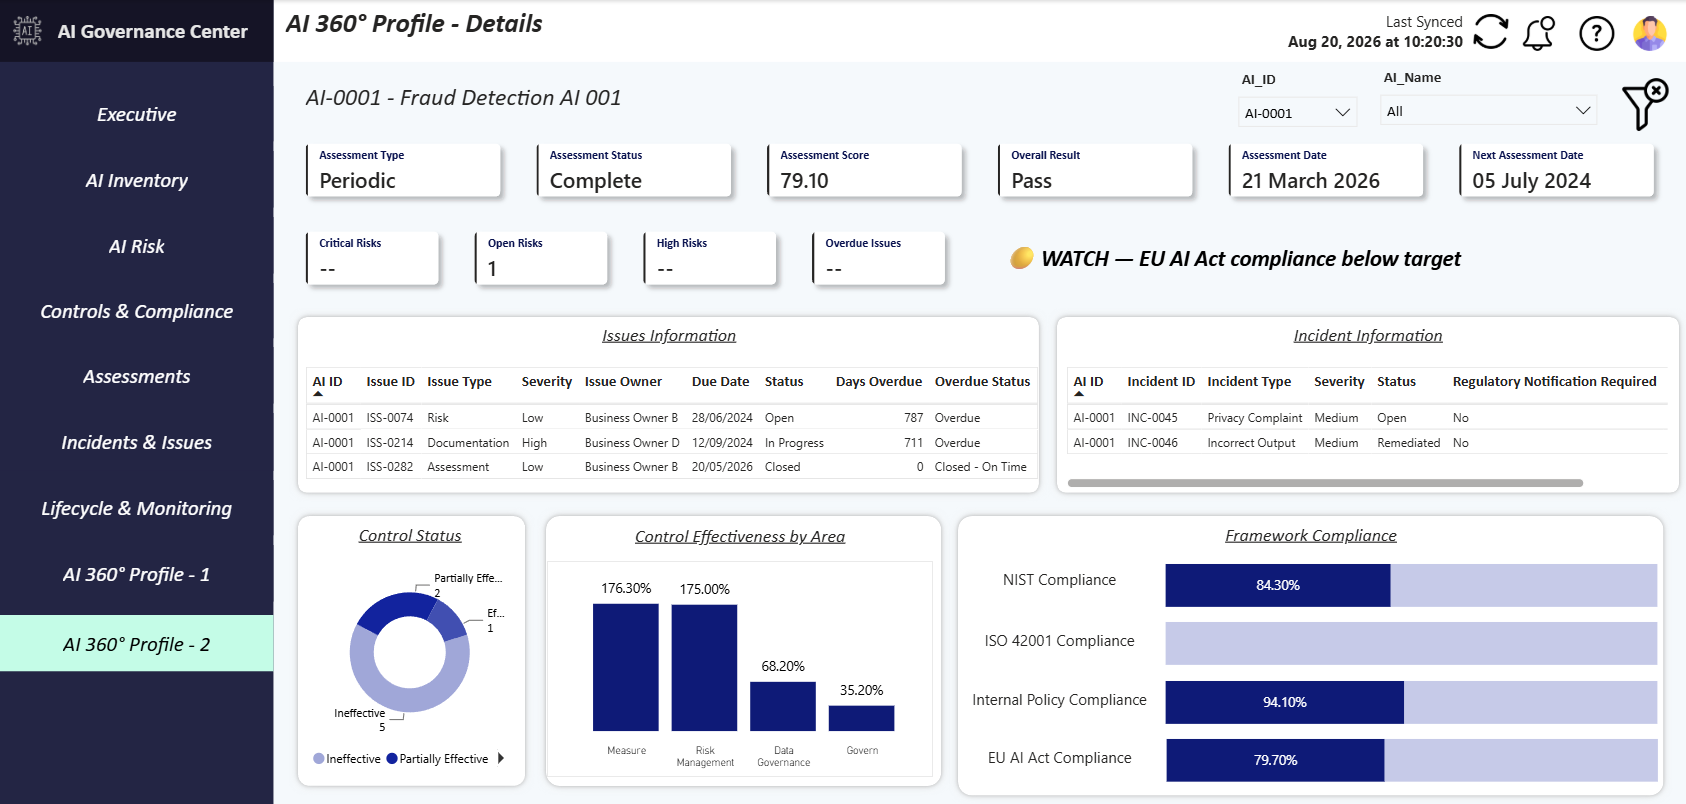

The page's visual inventory and layout, read from the dashboard file:
{"tool":"powerbi","page":{"name":"AI 360° Profile - 2","canvas":[1500,715],"ordinal":8},"visuals":[{"type":"shape","box":[0,0,1500,720.5],"z":0},{"type":"shape","box":[0,0,243.4,715.7],"z":1000},{"type":"shape","box":[0,0,243.4,55.2],"z":2000},{"type":"shape","box":[243.4,0,1256.6,55.2],"z":3000},{"type":"textbox","box":[46,10.2,186.1,33.7],"z":4000},{"type":"image","box":[1446.8,14.3,39.5,31.1],"z":5000},{"type":"image","box":[1347.6,14.3,38.6,31.1],"z":6000},{"type":"cardVisual","fields":{"Data":["Min(Fact_Assessment.Assessment_Type)","Min(Fact_Assessment.Assessment_Status)","Sum(Fact_Assessment.Assessment_Score)","Min(Fact_Assessment.Overall_Result)","Min(Fact_Assessment.Assessment_Date)","Min(AI_Inventory.Next_Assessment_Date)"]},"box":[242.5,98.9,1257.7,105.3],"z":7000},{"type":"shape","box":[256.8,273.9,674.4,172.2],"z":8000},{"type":"textbox","box":[498.4,282.5,192.4,38],"z":9000},{"type":"shape","box":[256.8,450.9,217.8,255.9],"z":10000},{"type":"shape","box":[843.7,450.9,643,264.4],"z":11000},{"type":"textbox","box":[1052,460.4,226,38],"z":12000},{"type":"image","box":[9.2,14.3,30.7,25.6],"z":13000},{"type":"image","box":[1399.8,14.3,39,31],"z":14000},{"type":"textbox","box":[1100.7,5.1,204.2,44.9],"z":15000},{"type":"image","box":[1305,12.3,39,31],"z":16000},{"type":"shape","box":[0,76.2,242.9,49.5],"z":17000},{"type":"shape","box":[0,484,243,50],"z":18000},{"type":"shape","box":[0,426.5,243,49],"z":19000},{"type":"shape","box":[477.5,450.9,367.2,255.9],"z":20000},{"type":"shape","box":[0,192.6,243,50],"z":21000},{"type":"shape","box":[0,367,243,51.1],"z":22000},{"type":"shape","box":[0,308.5,243,50],"z":23000},{"type":"shape","box":[0,251.1,243,49],"z":24000},{"type":"shape","box":[0,134.1,243,50],"z":25000},{"type":"tableEx","fields":{"Values":["AI_Inventory.AI_ID","Fact_Issue.Issue_ID","Fact_Issue.Issue_Type","Fact_Issue.Severity","Fact_Issue.Issue_Owner","Fact_Issue.Due_Date","Fact_Issue.Status","Fact_Issue.Days Overdue","Fact_Issue.Overdue Status"]},"box":[265.4,320.5,665.8,117.9],"z":26000},{"type":"shape","box":[0,546.5,243,50],"z":27000},{"type":"barChart","fields":{"Y":["_Measures.NIST Compliance","AI_Inventory.dummy"]},"box":[1031.1,483.2,447.1,65.6],"z":28000},{"type":"barChart","fields":{"Y":["_Measures.ISO 42001 Compliance","AI_Inventory.dummy"]},"box":[1031.1,535.1,447.1,65.6],"z":29000},{"type":"barChart","fields":{"Y":["_Measures.Internal Policy Compliance","AI_Inventory.dummy"]},"box":[1031.1,587,447.1,65.6],"z":30000},{"type":"barChart","fields":{"Y":["_Measures.EU AI Act Compliance","AI_Inventory.dummy"]},"box":[1031.4,639,446.6,65.4],"z":31000},{"type":"textbox","box":[852.3,501.3,178.8,32.3],"z":32000},{"type":"textbox","box":[852.3,555.5,178.8,32.3],"z":33000},{"type":"textbox","box":[852.3,607.8,178.8,32.3],"z":34000},{"type":"textbox","box":[852.3,659.2,179.1,32.7],"z":35000},{"type":"donutChart","fields":{"Category":["Fact_Control_Test.Control_Status"],"Y":["_Measures.Total Control Tests"]},"box":[273,493.7,182.6,197.8],"z":36000},{"type":"textbox","box":[251.1,460.4,226,38],"z":37000},{"type":"columnChart","fields":{"Category":["Dim_Control.Control_Area"],"Y":["Sum(Fact_Control_Test.Effectiveness)"]},"box":[486,498.4,343.4,192.1],"z":38000},{"type":"textbox","box":[545,461.3,226,38],"z":39000},{"type":"shape","box":[931.2,273.9,568.8,172.2],"z":40000},{"type":"textbox","box":[1119.5,282.5,192.4,38],"z":41000},{"type":"tableEx","fields":{"Values":["AI_Inventory.AI_ID","Fact_Incident.Incident_ID","Fact_Incident.Incident_Type","Fact_Incident.Severity","Fact_Incident.Status","Fact_Incident.Regulatory_Notification_Required","Fact_Incident.Incident_Date"]},"box":[941.7,320.5,545,117.9],"z":42000},{"type":"cardVisual","fields":{"Data":["_Measures.Critical Risks","_Measures.Open Risks","_Measures.High Risks","_Measures.Overdue Issues"]},"box":[242.5,176.9,628.7,105.6],"z":43000},{"type":"cardVisual","fields":{"Data":["_Measures.AI Governance Alert"]},"box":[863.7,188.3,623,77],"z":44000},{"type":"textbox","box":[249.2,0,267.3,60.9],"z":45000},{"type":"cardVisual","fields":{"Data":["Min(AI_Inventory.AI ID_ Name)"]},"box":[242.5,55.2,732.4,59.9],"z":46000},{"type":"slicer","fields":{"Values":["AI_Inventory.AI_ID"]},"box":[1090,57.1,125.6,70.4],"z":47000},{"type":"slicer","fields":{"Values":["AI_Inventory.AI_Name"]},"box":[1216.6,55.2,213.1,70.4],"z":48000},{"type":"image","box":[1439,68,46.8,49.5],"z":49000}]}

Visuals, with their boxes on the page's 1500x715 design canvas (x1, y1, x2, y2). These are canvas units, not pixel positions in the 1686x804 screenshot, which may show the page scaled, cropped or inside an application window:
shape: box(0, 0, 1500, 720)
shape: box(0, 0, 243, 716)
shape: box(0, 0, 243, 55)
shape: box(243, 0, 1500, 55)
textbox: box(46, 10, 232, 44)
image: box(1447, 14, 1486, 45)
image: box(1348, 14, 1386, 45)
cardVisual - Min(Fact_Assessment.Assessment_Type) x Min(Fact_Assessment.Assessment_Status): box(242, 99, 1500, 204)
shape: box(257, 274, 931, 446)
textbox: box(498, 282, 691, 320)
shape: box(257, 451, 475, 707)
shape: box(844, 451, 1487, 715)
textbox: box(1052, 460, 1278, 498)
image: box(9, 14, 40, 40)
image: box(1400, 14, 1439, 45)
textbox: box(1101, 5, 1305, 50)
image: box(1305, 12, 1344, 43)
shape: box(0, 76, 243, 126)
shape: box(0, 484, 243, 534)
shape: box(0, 426, 243, 476)
shape: box(478, 451, 845, 707)
shape: box(0, 193, 243, 243)
shape: box(0, 367, 243, 418)
shape: box(0, 308, 243, 358)
shape: box(0, 251, 243, 300)
shape: box(0, 134, 243, 184)
tableEx - AI_Inventory.AI_ID x Fact_Issue.Issue_ID: box(265, 320, 931, 438)
shape: box(0, 546, 243, 596)
barChart - _Measures.NIST Compliance x AI_Inventory.dummy: box(1031, 483, 1478, 549)
barChart - _Measures.ISO 42001 Compliance x AI_Inventory.dummy: box(1031, 535, 1478, 601)
barChart - _Measures.Internal Policy Compliance x AI_Inventory.dummy: box(1031, 587, 1478, 653)
barChart - _Measures.EU AI Act Compliance x AI_Inventory.dummy: box(1031, 639, 1478, 704)
textbox: box(852, 501, 1031, 534)
textbox: box(852, 556, 1031, 588)
textbox: box(852, 608, 1031, 640)
textbox: box(852, 659, 1031, 692)
donutChart - Fact_Control_Test.Control_Status x _Measures.Total Control Tests: box(273, 494, 456, 692)
textbox: box(251, 460, 477, 498)
columnChart - Dim_Control.Control_Area x Sum(Fact_Control_Test.Effectiveness): box(486, 498, 829, 690)
textbox: box(545, 461, 771, 499)
shape: box(931, 274, 1500, 446)
textbox: box(1120, 282, 1312, 320)
tableEx - AI_Inventory.AI_ID x Fact_Incident.Incident_ID: box(942, 320, 1487, 438)
cardVisual - _Measures.Critical Risks x _Measures.Open Risks: box(242, 177, 871, 282)
cardVisual - _Measures.AI Governance Alert: box(864, 188, 1487, 265)
textbox: box(249, 0, 516, 61)
cardVisual - Min(AI_Inventory.AI ID_ Name): box(242, 55, 975, 115)
slicer - AI_Inventory.AI_ID: box(1090, 57, 1216, 128)
slicer - AI_Inventory.AI_Name: box(1217, 55, 1430, 126)
image: box(1439, 68, 1486, 118)
